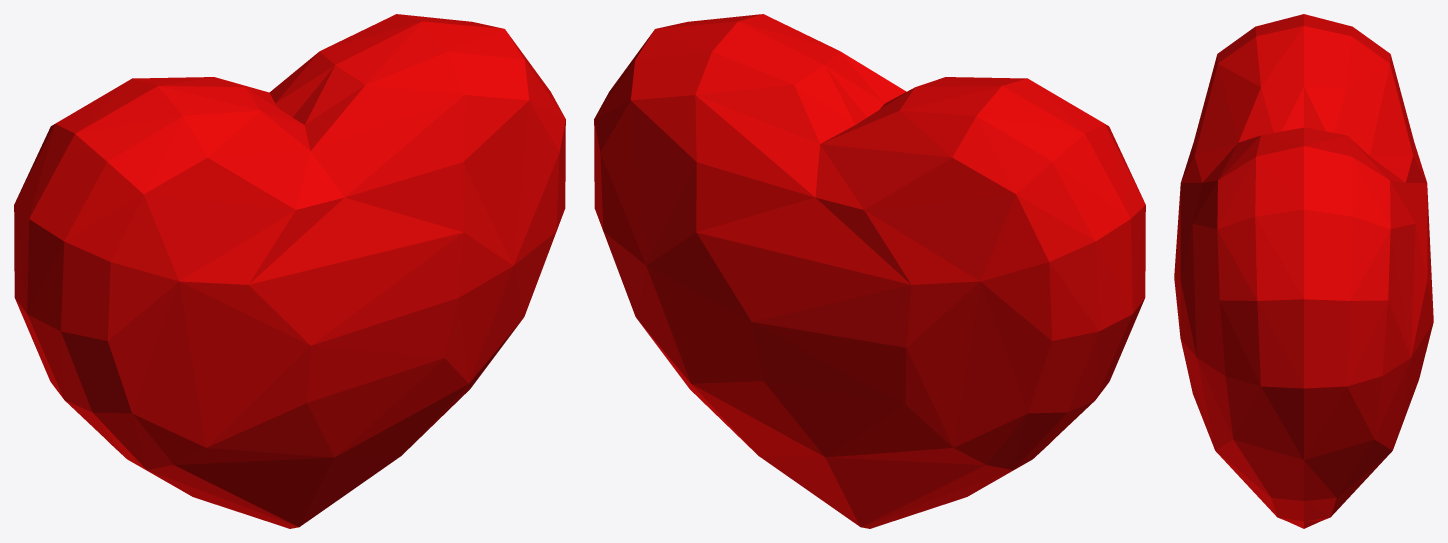
The model's file is Herz_Mesh_LOD.fbx.
3 renders of one model, left to right at view 1: azimuth 30°, elevation 25°; view 2: azimuth 150°, elevation 25°; view 3: azimuth 270°, elevation 25°, orthographic. The views are drawn at different scales.
Parts seen in each view (by area): view 1: Herz_Mesh_LOD0; view 2: Herz_Mesh_LOD0; view 3: Herz_Mesh_LOD0.
Boxes of the visible parts, x1,y1,x2,y2 form: Herz_Mesh_LOD0: (14,14,565,528); Herz_Mesh_LOD0: (594,14,1145,528); Herz_Mesh_LOD0: (1174,14,1433,528).
Size of what is drawn, in the model's own units: 11.6 by 10.03 by 5.33.
